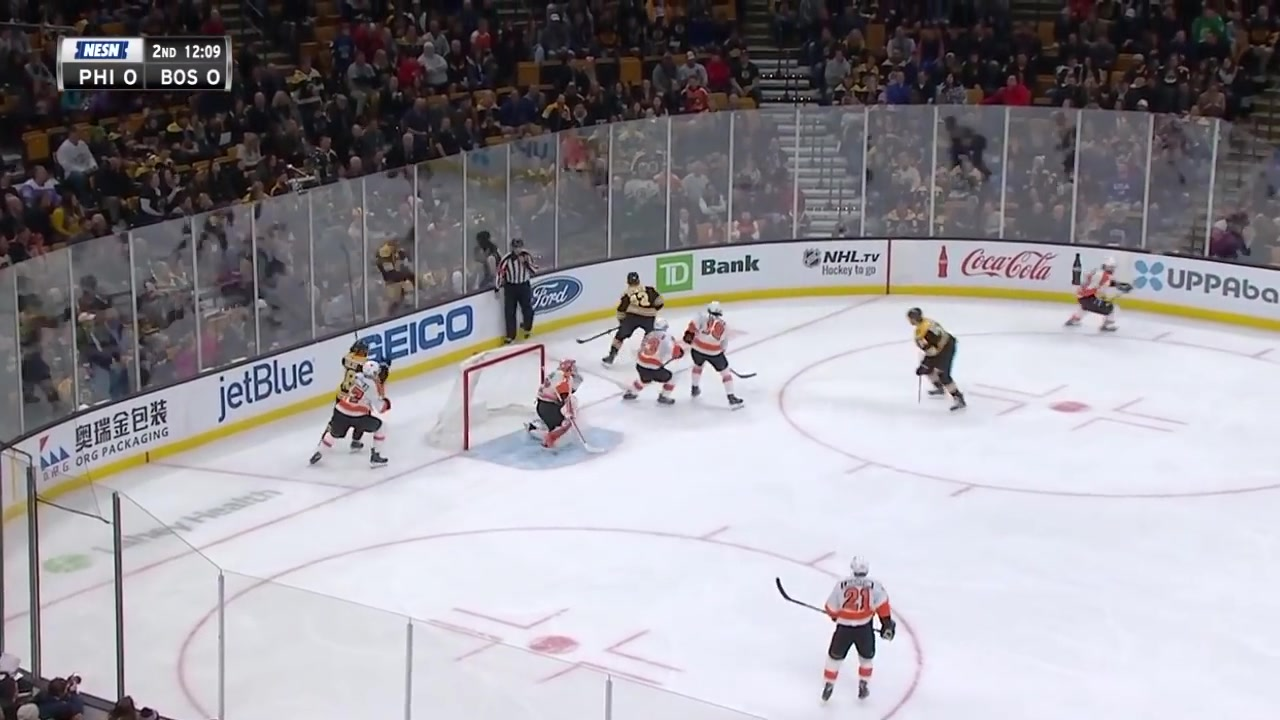Geico: (351, 300, 489, 378)
